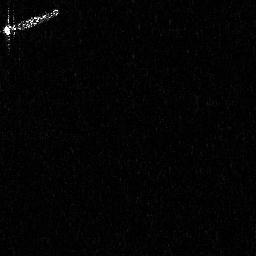ship: (1, 7, 60, 52)
